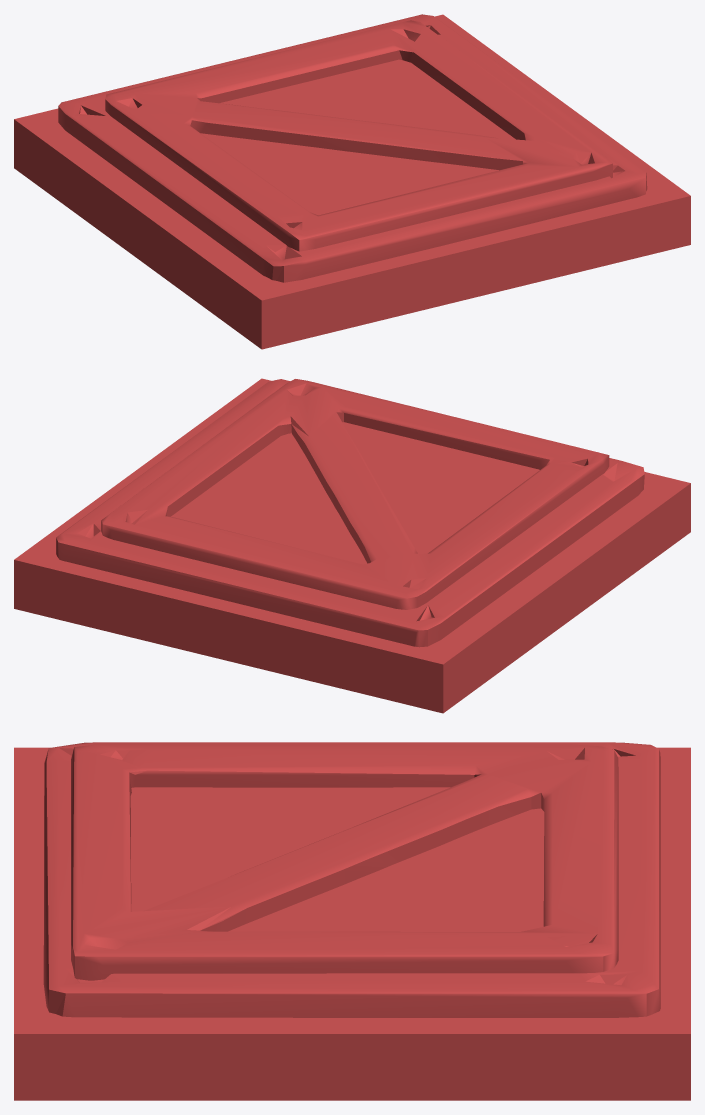
File: Final_ComplexWall_1x1_03.FBX
3 views of the same model, one above another, from view 1: azimuth 30°, elevation 25°; view 2: azimuth 150°, elevation 25°; view 3: azimuth 270°, elevation 25° (orthographic). The views are drawn at different scales.
Parts seen in each view (by area): view 1: Final_ComplexWall_1x1_03; view 2: Final_ComplexWall_1x1_03; view 3: Final_ComplexWall_1x1_03.
Part boxes in pixels (x1,y1,x2,y2): Final_ComplexWall_1x1_03: (14,14,690,349); Final_ComplexWall_1x1_03: (14,378,690,713); Final_ComplexWall_1x1_03: (14,742,690,1100).
Size of the model in its own units: 200 by 200 by 35.71.
